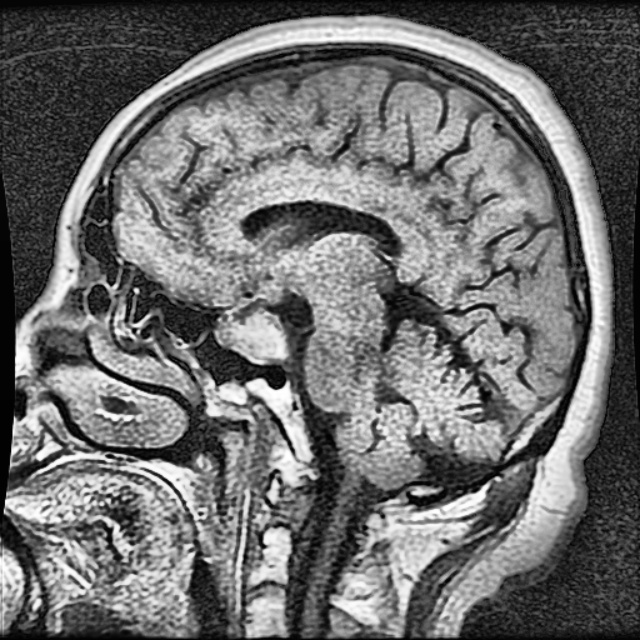Pituitary: (215, 309, 289, 364)
